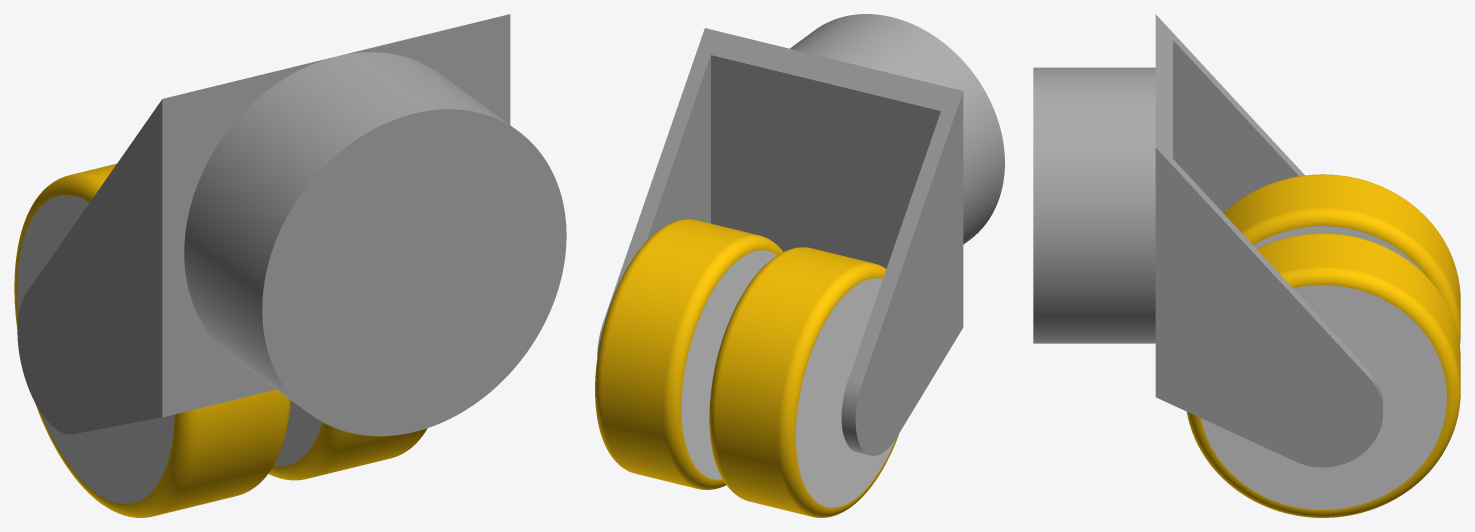
Rendered from diff_caster.dae.
The picture shows the model from 3 angles, left to right: view 1: azimuth 30°, elevation 25°; view 2: azimuth 150°, elevation 25°; view 3: azimuth 270°, elevation 25°; orthographic projection. The views are drawn at different scales.
Visible parts, largest first — view 1: RoX Simple Lenkrolle; view 2: RoX Simple Lenkrolle; view 3: RoX Simple Lenkrolle.
Boxes of the visible parts, x1=… form: RoX Simple Lenkrolle: x1=14, y1=14, x2=566, y2=517; RoX Simple Lenkrolle: x1=595, y1=14, x2=1004, y2=517; RoX Simple Lenkrolle: x1=1033, y1=14, x2=1460, y2=517.
Bounding box in the file's own units: 91.5 × 124 × 125.
